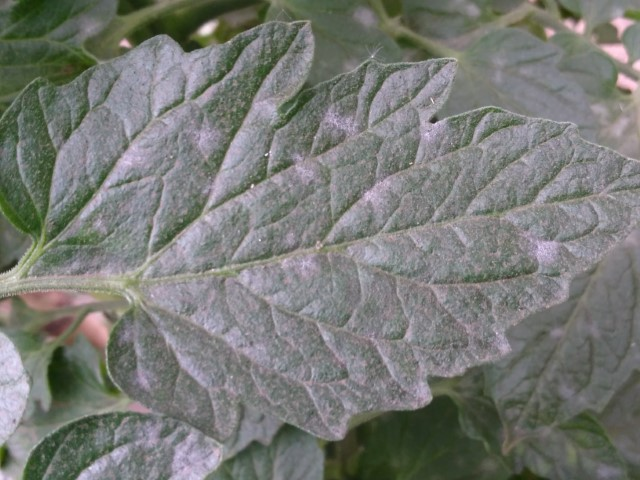blanca: (189, 119, 222, 160), (327, 109, 367, 140), (532, 237, 565, 272), (422, 124, 453, 146)
